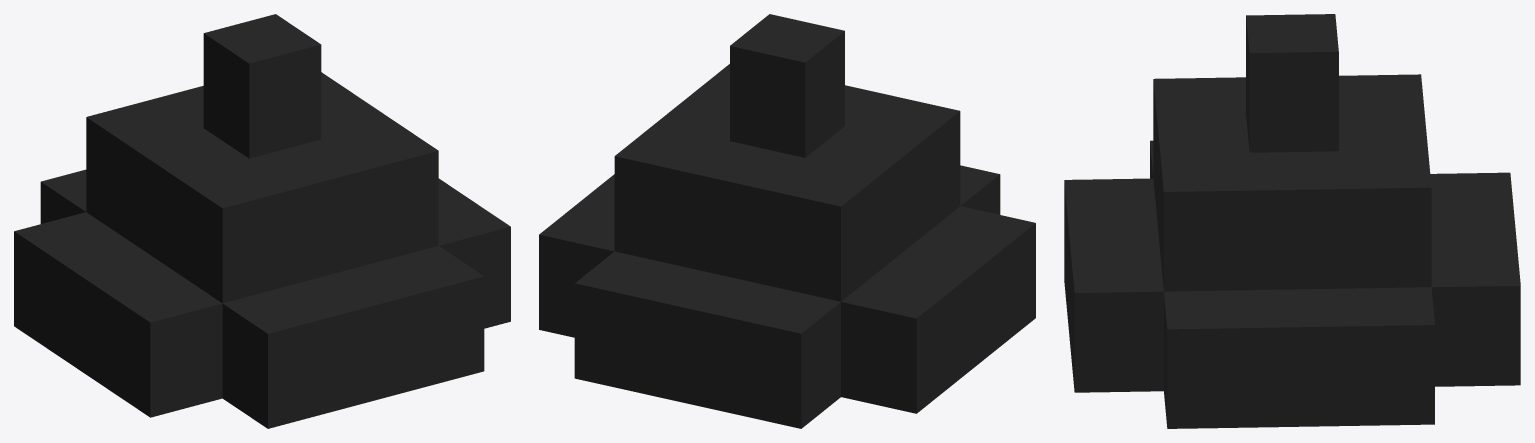
File: lavalamp.001_0_lev1_lev3.glb
3 views of the same model, side by side, from view 1: azimuth 30°, elevation 25°; view 2: azimuth 150°, elevation 25°; view 3: azimuth 270°, elevation 25° (orthographic). The views are drawn at different scales.
Visible parts, largest first — view 1: lavalamp.001_0_lev1_lev3; view 2: lavalamp.001_0_lev1_lev3; view 3: lavalamp.001_0_lev1_lev3.
Part boxes in pixels (box(x1,y1,x2,y2)): lavalamp.001_0_lev1_lev3: box(14, 14, 510, 428); lavalamp.001_0_lev1_lev3: box(539, 14, 1035, 428); lavalamp.001_0_lev1_lev3: box(1064, 14, 1520, 428).
Bounding box in the file's own units: 0.1532 × 0.1106 × 0.1532.
Materials: 1 (1 with a texture image).
